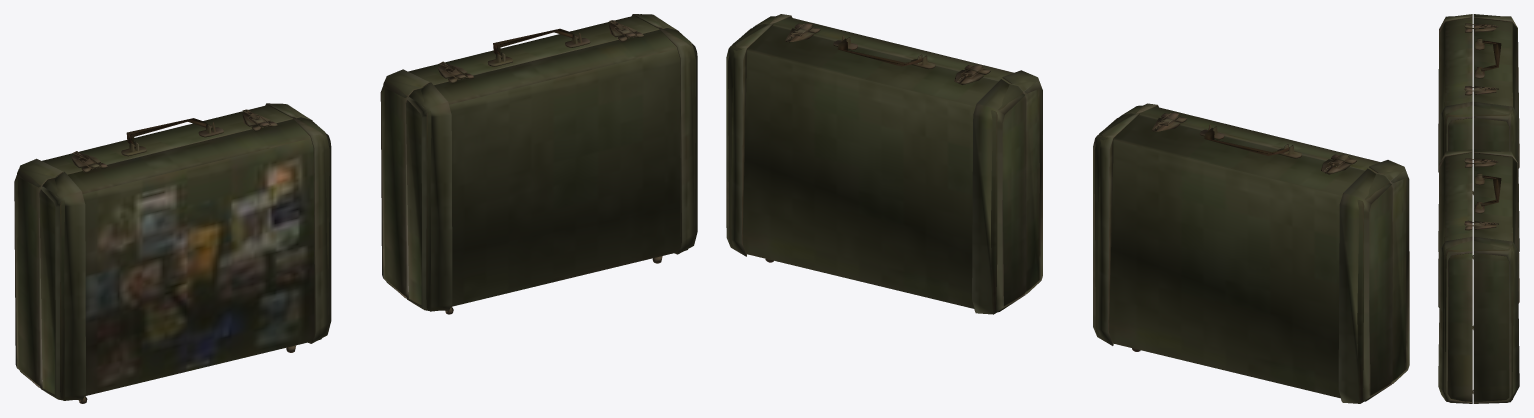
Rendered from sac.glb.
The picture shows the model from 3 angles, left to right: view 1: azimuth 30°, elevation 25°; view 2: azimuth 150°, elevation 25°; view 3: azimuth 270°, elevation 25°; orthographic projection. The views are drawn at different scales.
Visible parts, largest first — view 1: vintage_suitcase_02_bottom, vintage_suitcase_01_bottom; view 2: vintage_suitcase_02_bottom, vintage_suitcase_01_bottom; view 3: vintage_suitcase_01_bottom, vintage_suitcase_02_bottom.
Boxes of the visible parts, x1,y1,x2,y2 form: vintage_suitcase_02_bottom: (14,103,331,403); vintage_suitcase_01_bottom: (380,14,697,314); vintage_suitcase_02_bottom: (1093,103,1409,403); vintage_suitcase_01_bottom: (726,14,1042,314); vintage_suitcase_01_bottom: (1438,149,1519,403); vintage_suitcase_02_bottom: (1438,14,1519,259).
Size of the model in its own units: 1.61 by 0.5592 by 0.2337.
Materials: 2 (2 with a texture image).
